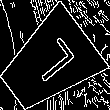L_SW: (21, 36, 77, 91)
